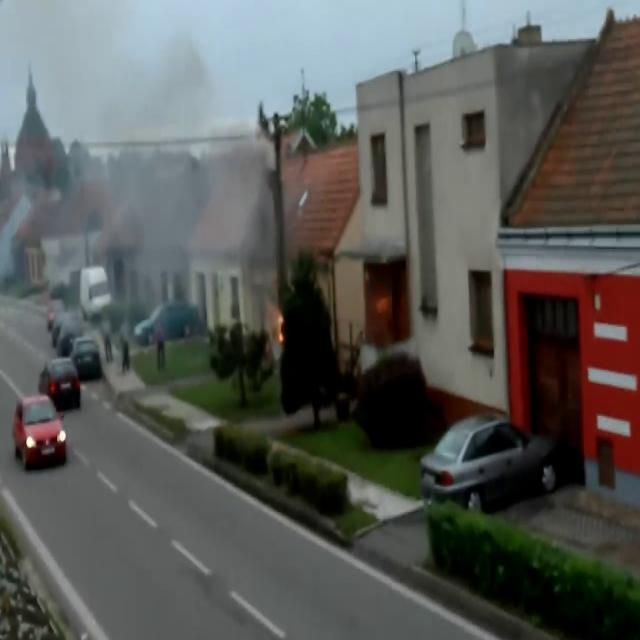Smoke: (51, 12, 273, 324), (0, 167, 34, 293)
